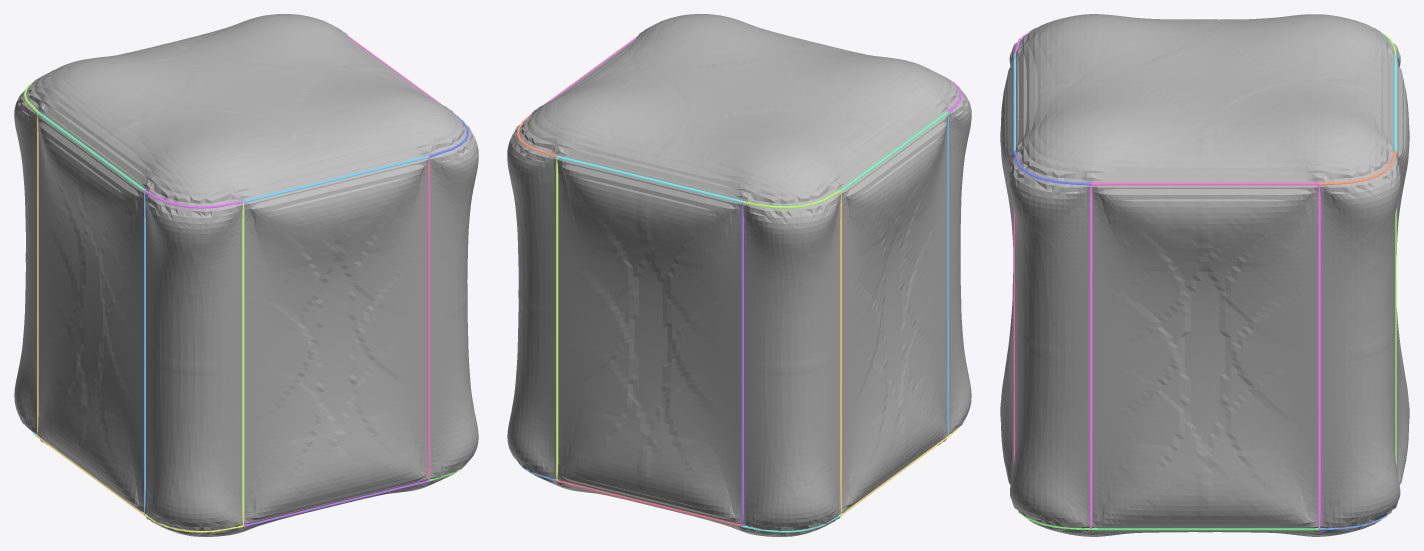
The model's file is onshape_simple_shape.gltf.
3 views of the same model, side by side, from view 1: azimuth 30°, elevation 25°; view 2: azimuth 150°, elevation 25°; view 3: azimuth 270°, elevation 25° (orthographic). The views are drawn at different scales.
Bounding box in the file's own units: 0.621 × 0.6718 × 0.6216.
